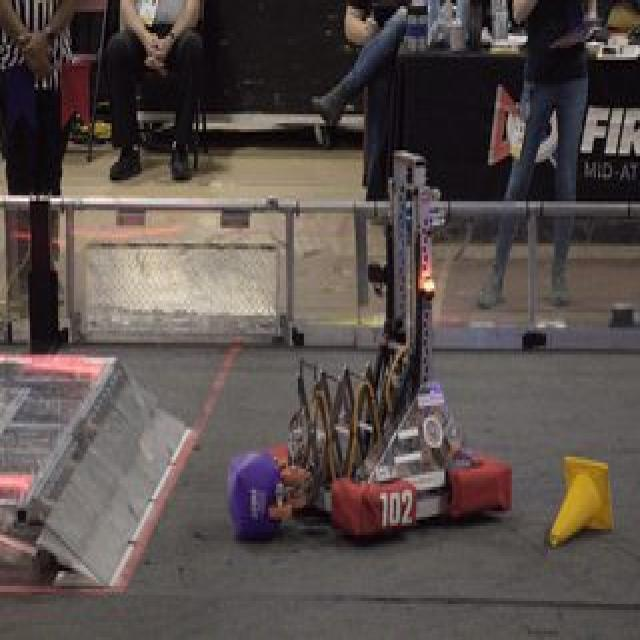robot: (197, 140, 550, 544)
